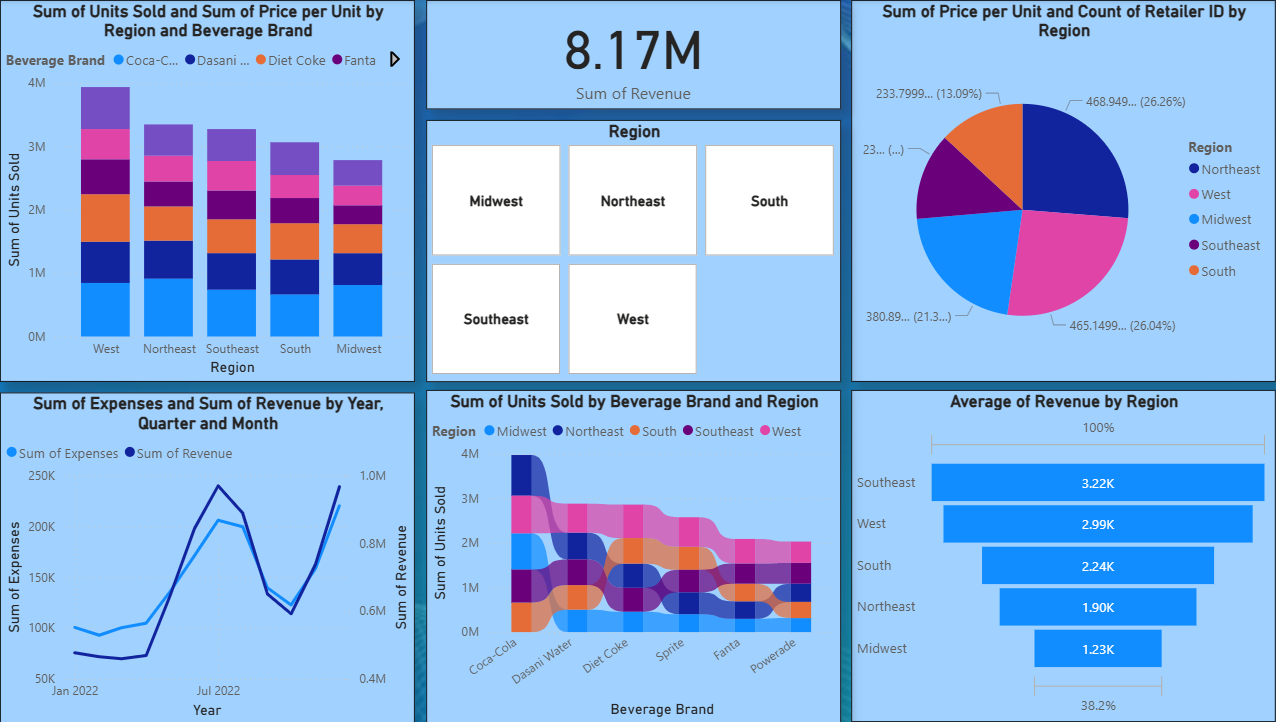

What the dashboard file says about the page in this screenshot:
{"tool":"powerbi","page":{"name":"Page 1","canvas":[1280,720],"ordinal":0},"visuals":[{"type":"columnChart","fields":{"Y":["Sum(Data.Units Sold)"],"Category":["Data.Region"],"Series":["Data.Beverage Brand"]},"box":[9.6,0,413,380.1],"z":0},{"type":"lineChart","fields":{"Category":["Data.Date.Variation.Date Hierarchy.Year","Data.Date.Variation.Date Hierarchy.Quarter","Data.Date.Variation.Date Hierarchy.Month","Data.Date.Variation.Date Hierarchy.Day"],"Y":["Sum(Data.Expenses)"],"Y2":["Sum(Data.Revenue)"]},"box":[10,390,413,330],"z":1000},{"type":"pieChart","fields":{"Category":["Data.Region"],"Y":["Sum(Data.Price per Unit)"]},"box":[857.6,0,422.6,380.1],"z":2000},{"type":"funnel","fields":{"Category":["Data.Region"],"Y":["Avg(Data.Revenue)"]},"box":[857.6,388.3,422.6,330.7],"z":3000},{"type":"card","fields":{"Values":["Sum(Data.Revenue)"]},"box":[433.6,0,413,108.4],"z":4000},{"type":"advancedSlicerVisual","fields":{"Values":["Data.Region"]},"box":[433.6,119.4,413,260.7],"z":5000},{"type":"ribbonChart","fields":{"Category":["Data.Beverage Brand"],"Y":["Sum(Data.Units Sold)"],"Series":["Data.Region"]},"box":[433.6,388.3,413,332.1],"z":6000}]}

Visuals, with their boxes in screenshot pixels (x1, y1, x2, y2), scaled from the page's 1280x720 canvas onto the 1276x722 screenshot:
columnChart - Sum(Data.Units Sold) x Data.Region: (left=10, top=0, right=421, bottom=381)
lineChart - Data.Date.Variation.Date Hierarchy.Year x Data.Date.Variation.Date Hierarchy.Quarter: (left=10, top=391, right=422, bottom=721)
pieChart - Data.Region x Sum(Data.Price per Unit): (left=855, top=0, right=1275, bottom=381)
funnel - Data.Region x Avg(Data.Revenue): (left=855, top=389, right=1275, bottom=721)
card - Sum(Data.Revenue): (left=432, top=0, right=844, bottom=109)
advancedSlicerVisual - Data.Region: (left=432, top=120, right=844, bottom=381)
ribbonChart - Data.Beverage Brand x Sum(Data.Units Sold): (left=432, top=389, right=844, bottom=721)
